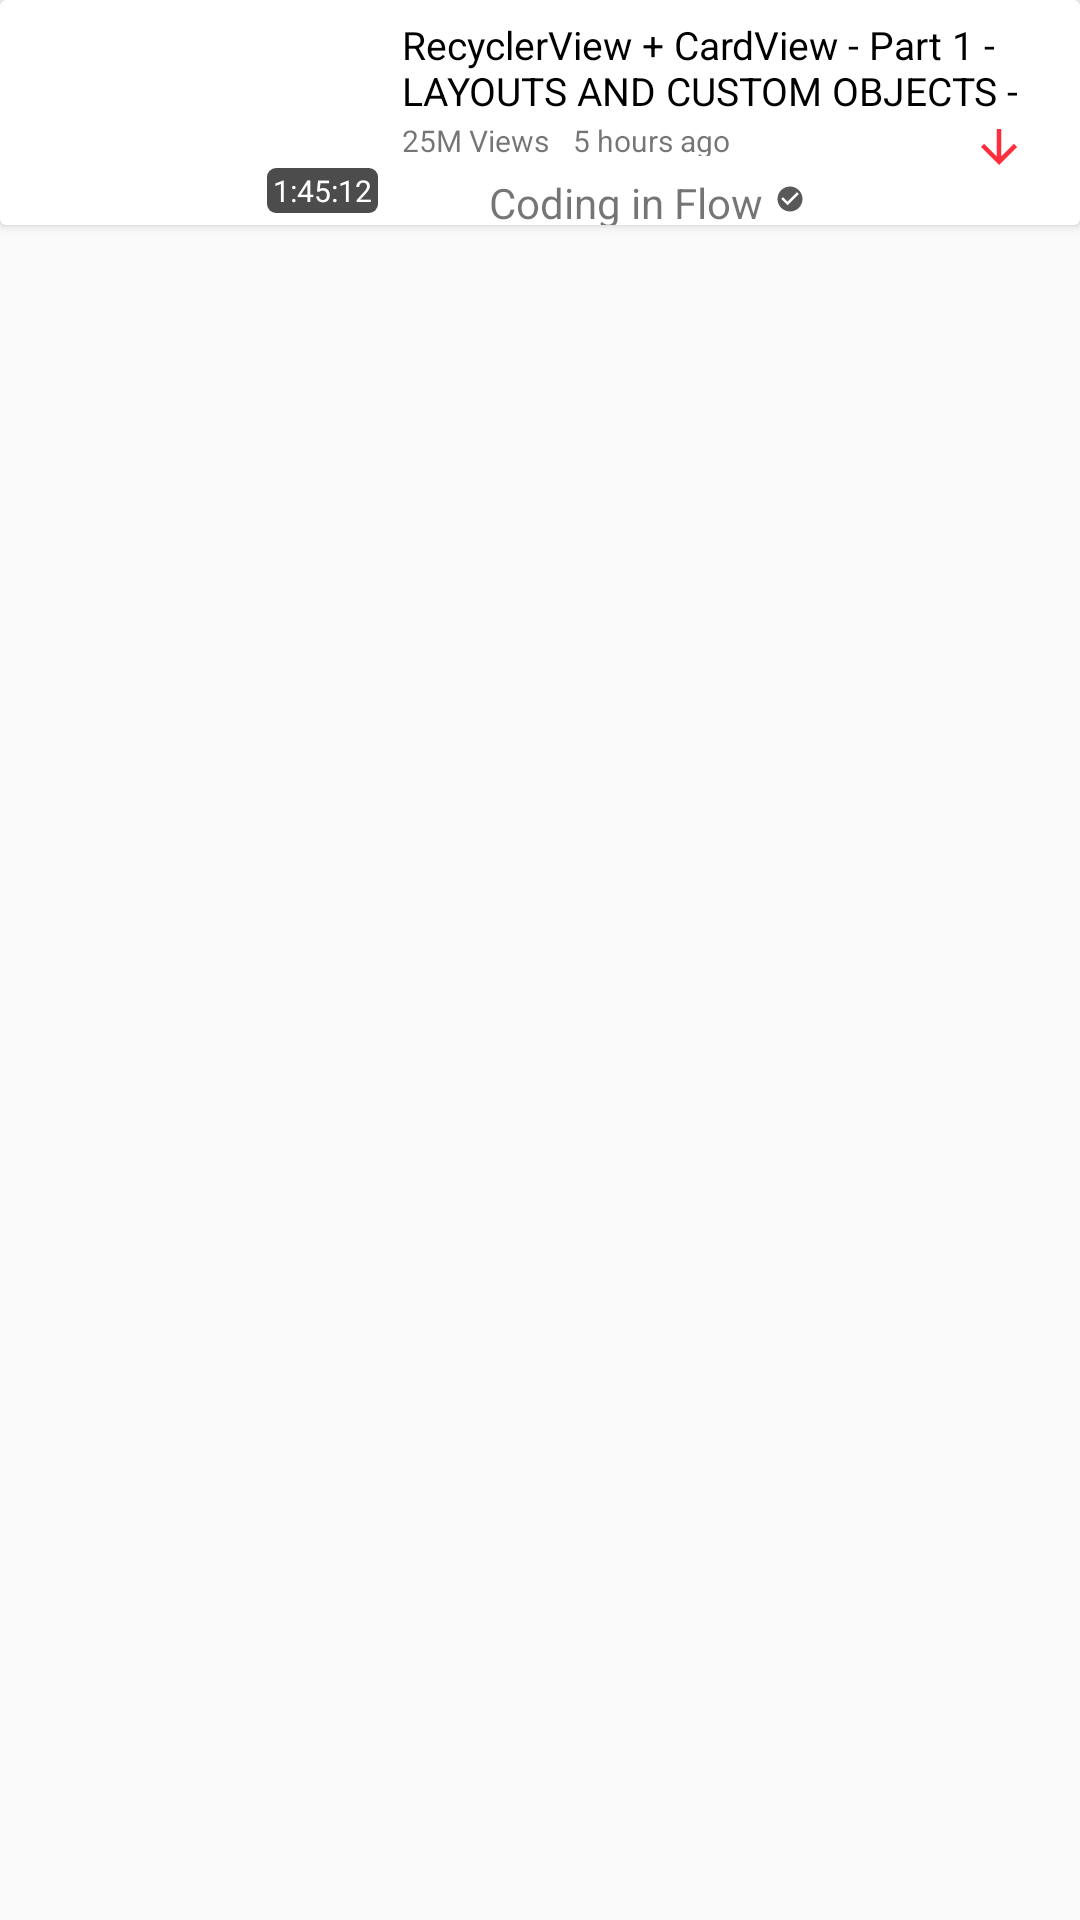

Where to tap for icons on this 1080px x 1920px app screen, as [x,y]:
badge: [790,199]
download: [999,147]
